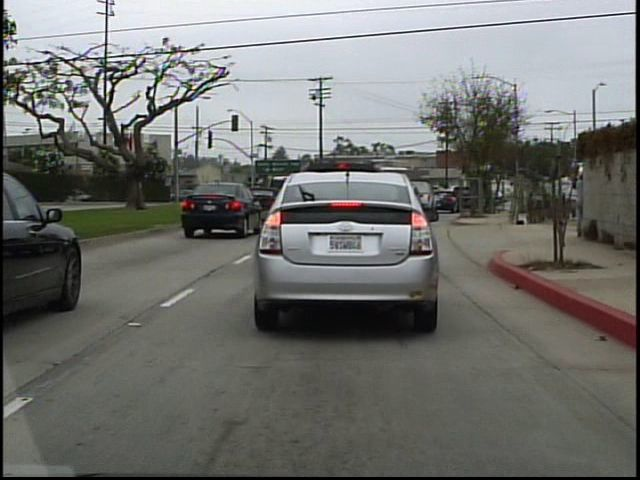person: (567, 162, 590, 244)
